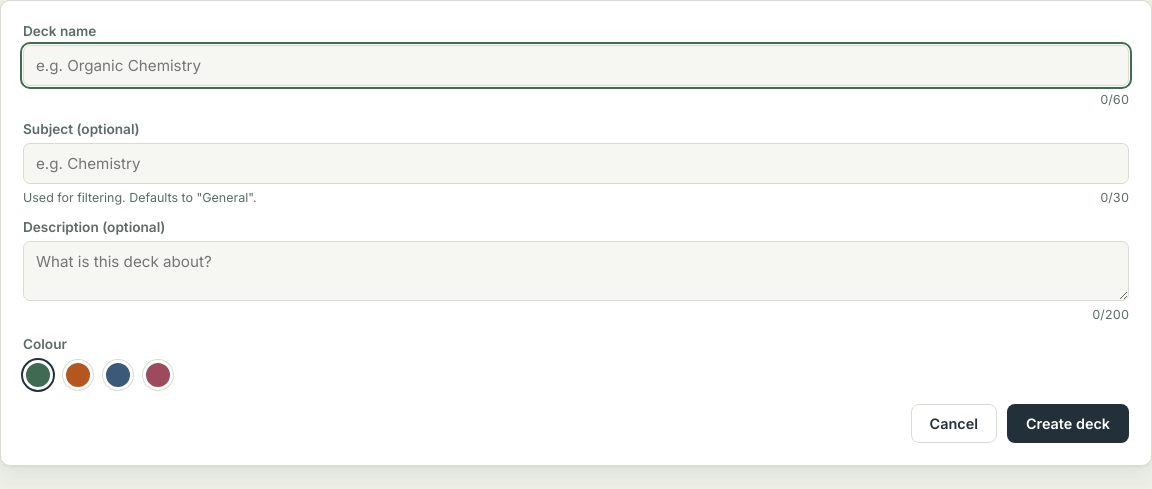
Test: <DeckForm /> › shows validation errors and does not submit an empty form
Click the button "Create deck": x=1068, y=424 [1007, 404, 1129, 443]
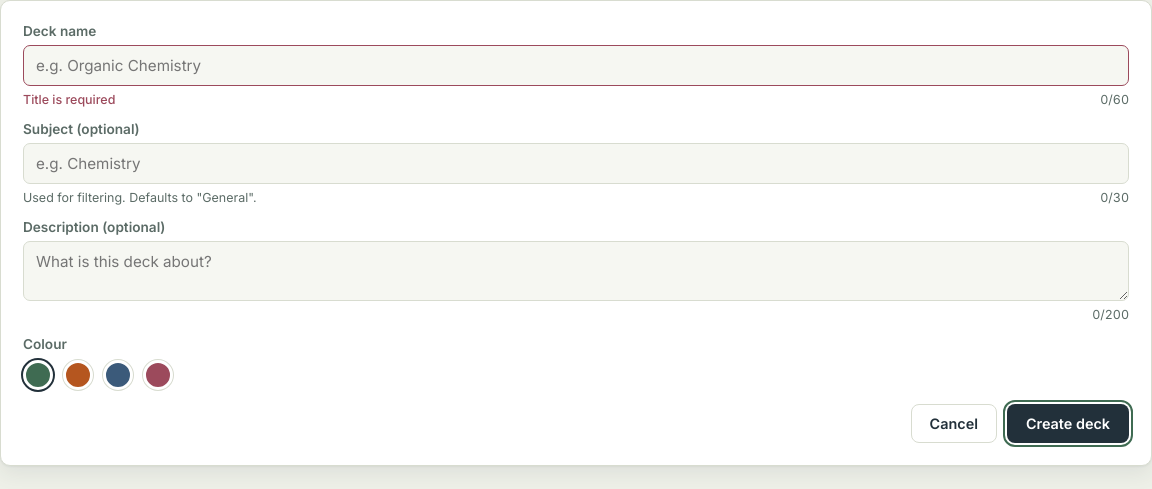
Result: the text "Title is required" is shown at [23, 92, 115, 107]
